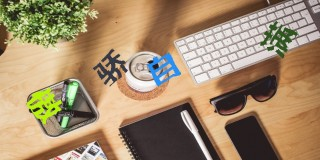傲: (26, 88, 62, 124)
满: (260, 21, 298, 58)
自: (147, 52, 180, 86)
骄: (92, 48, 128, 87)
